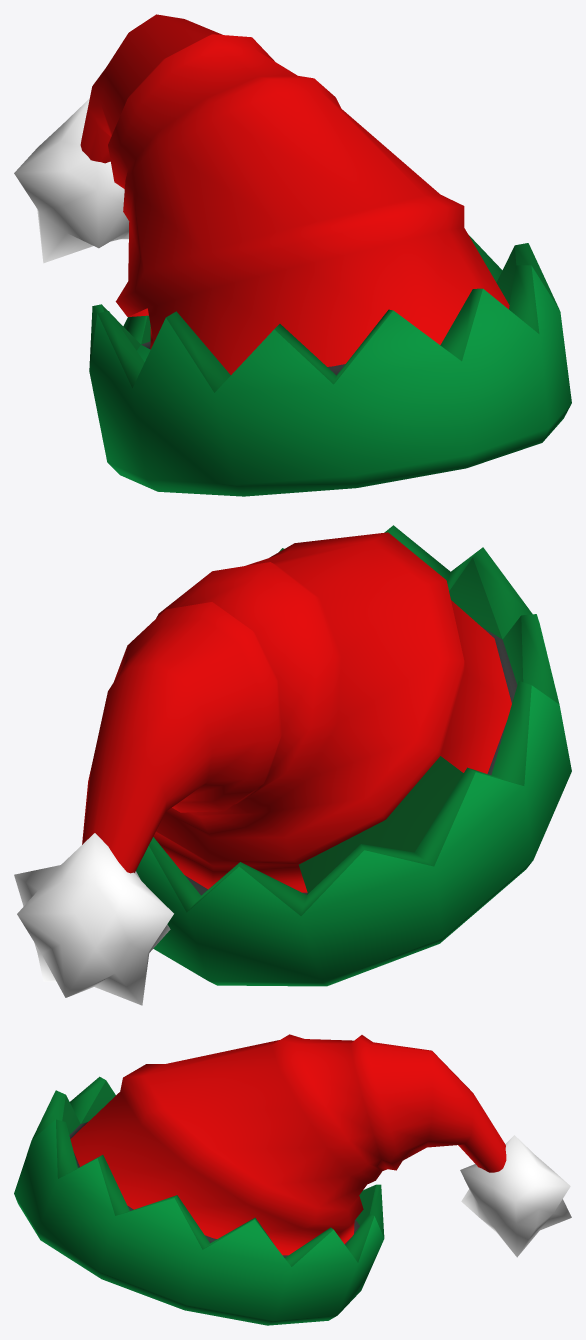
The model's file is F_Hat_Elf.glb.
3 views of the same model, one above another, from view 1: azimuth 30°, elevation 25°; view 2: azimuth 150°, elevation 25°; view 3: azimuth 270°, elevation 25° (orthographic). The views are drawn at different scales.
Visible parts, largest first — view 1: F_Hat_Elf; view 2: F_Hat_Elf; view 3: F_Hat_Elf.
Part boxes in pixels (<box>): F_Hat_Elf: <box>14,14,571,496</box>; F_Hat_Elf: <box>14,525,571,1005</box>; F_Hat_Elf: <box>14,1034,571,1325</box>.
Size of what is drawn, in the model's own units: 0.8001 by 0.7564 by 1.48.
1 material, 1 textured.
